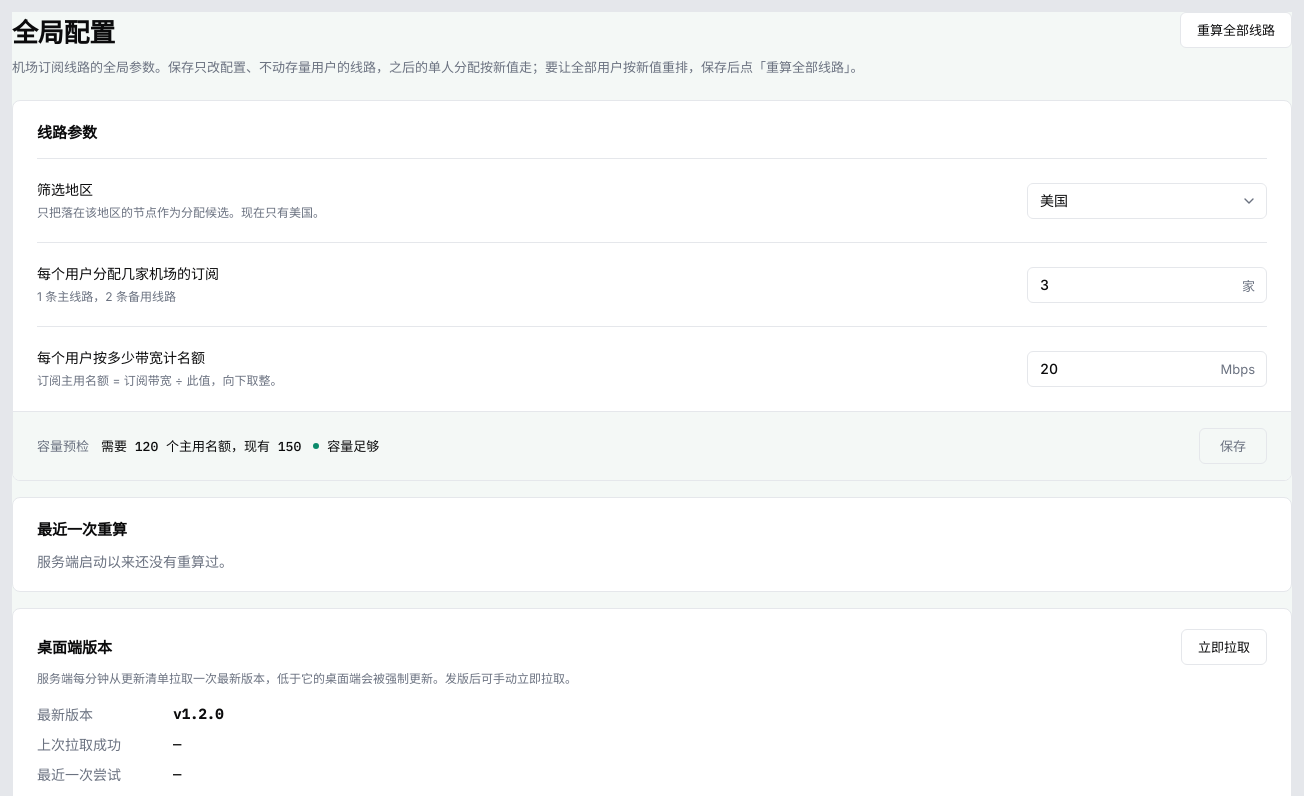
Test: SettingsView › 保存：不弹确认、直接 PUT，不触发全体重算
The image size is (1304, 796).
Replace the text in the number field with id "setting-airports" with "2": [1147, 285] box [1027,267,1267,303]
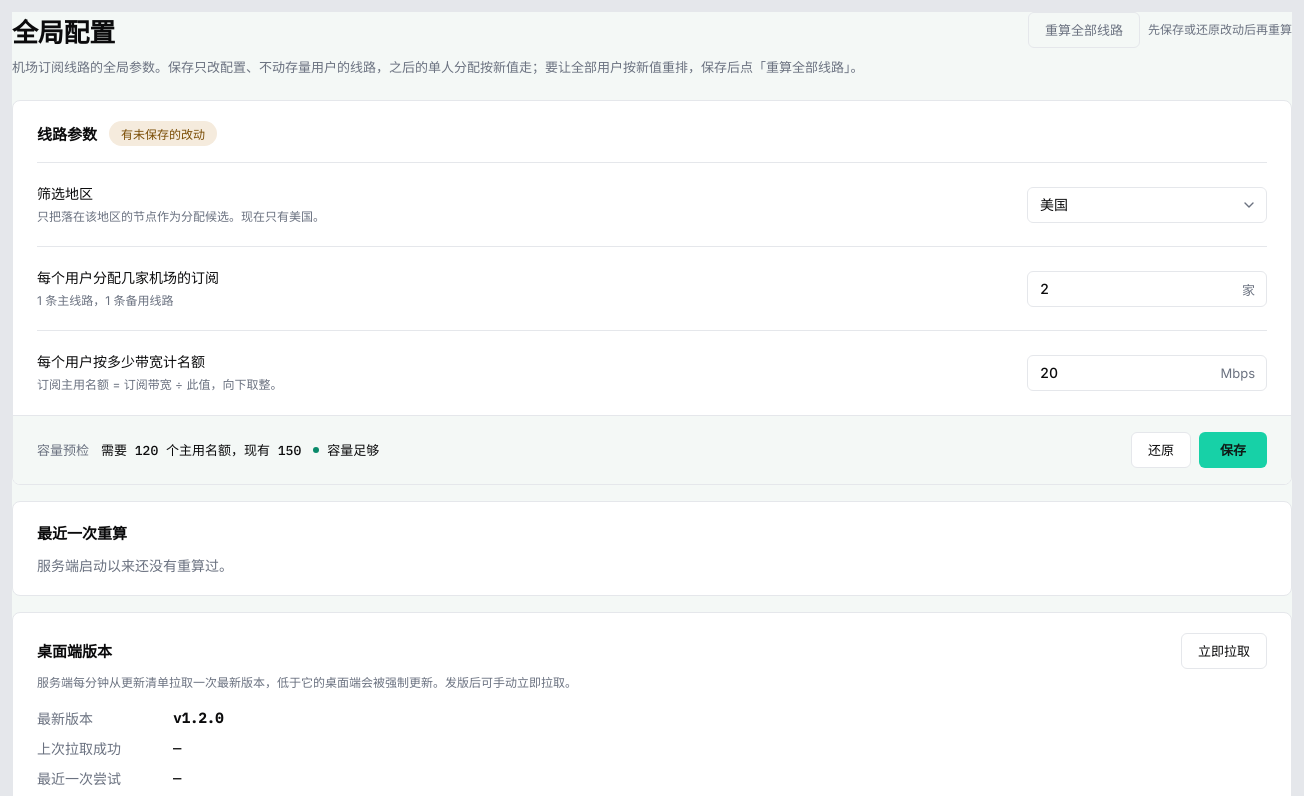
Click the button with class "save": [1233, 450] box [1199,432,1267,468]
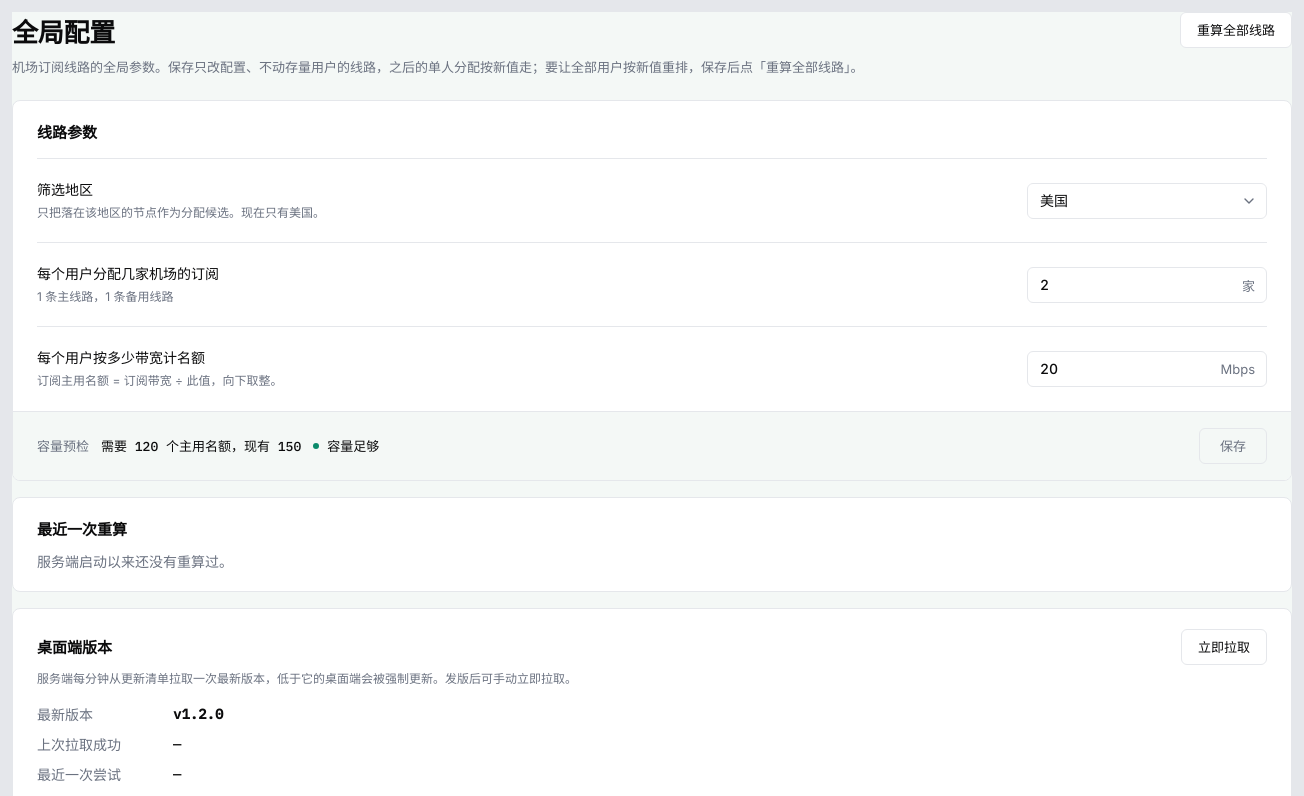
Expected: the text "有未保存的改动" is gone
